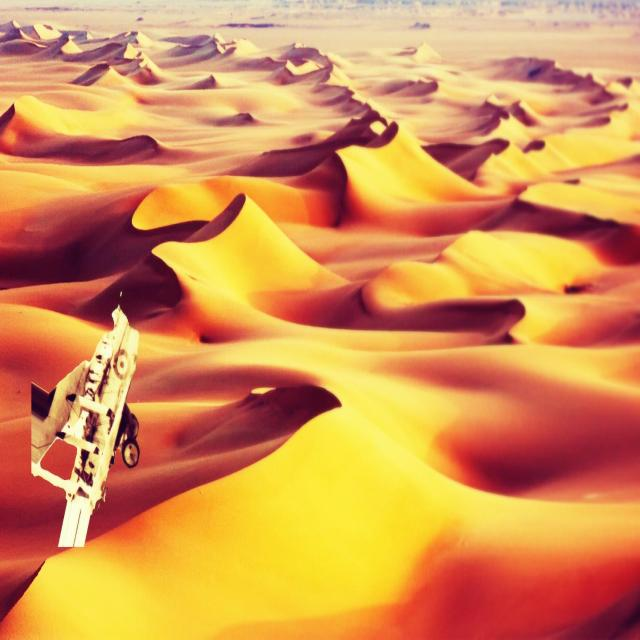airplane: (31, 293, 140, 548)
